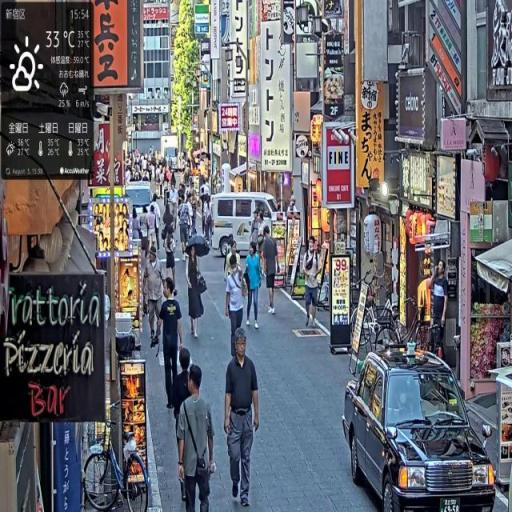person: (224, 329, 261, 510), (178, 365, 216, 512), (155, 275, 187, 416), (172, 349, 196, 499), (226, 252, 248, 362), (144, 245, 167, 349), (187, 245, 209, 340), (301, 238, 323, 332), (245, 240, 264, 335), (262, 227, 280, 315)
